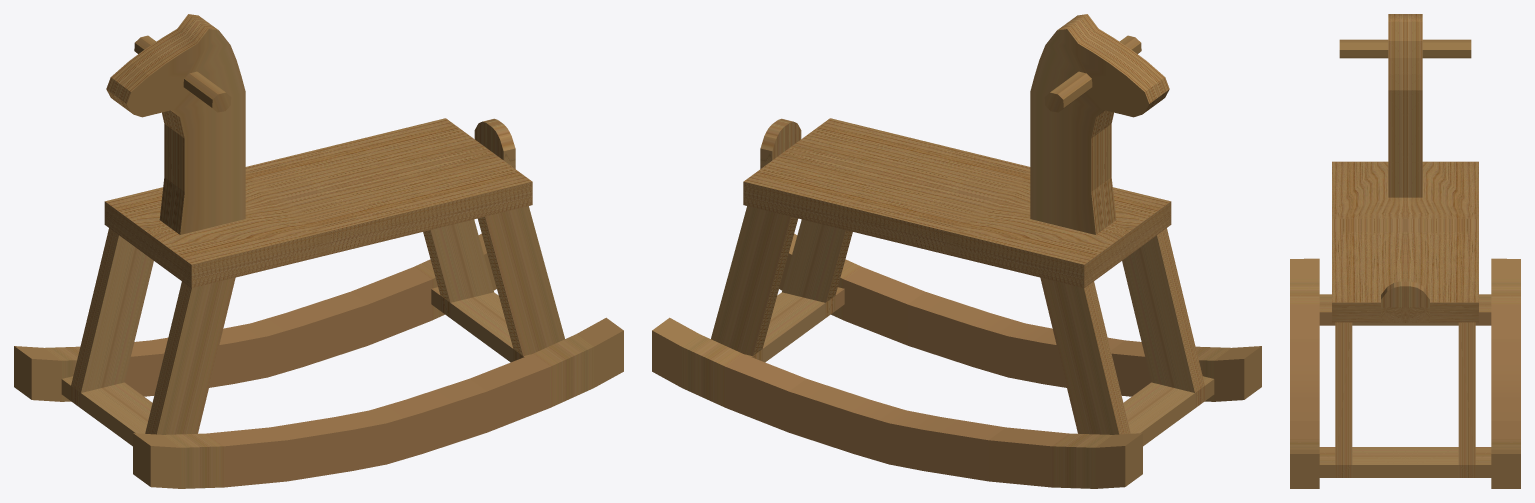
File: my3Dobject3.fbx
3 views of the same model, side by side, from view 1: azimuth 30°, elevation 25°; view 2: azimuth 150°, elevation 25°; view 3: azimuth 270°, elevation 25° (orthographic). The views are drawn at different scales.
Visible parts, largest first — view 1: Box001; view 2: Box001; view 3: Box001.
Part boxes in pixels (bbox=[...]): Box001: bbox=[14, 14, 623, 488]; Box001: bbox=[652, 14, 1261, 488]; Box001: bbox=[1290, 14, 1520, 488].
Size of the model in its own units: 62.97 by 31.47 by 53.71.
Materials: 1 (1 with a texture image).
